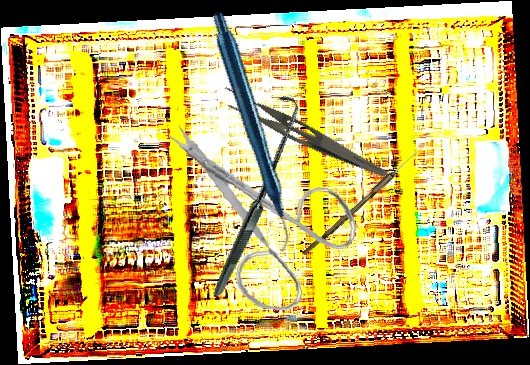Dressing Forceps: (215, 83, 396, 180)
Handpiece: (147, 11, 352, 253)
Hook Surgical: (147, 92, 358, 298)
Iris Scissors: (147, 124, 365, 317)
Surgical Spoon: (302, 141, 427, 259)
